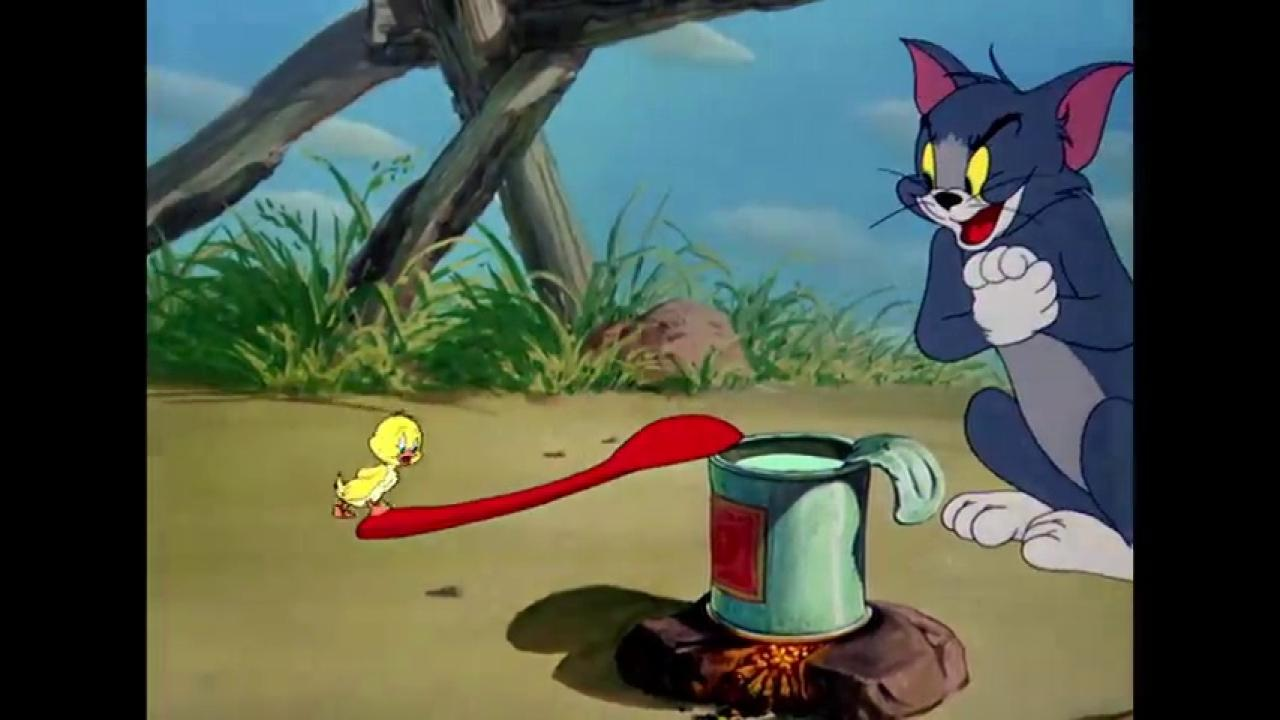Tom: (891, 30, 1134, 580)
